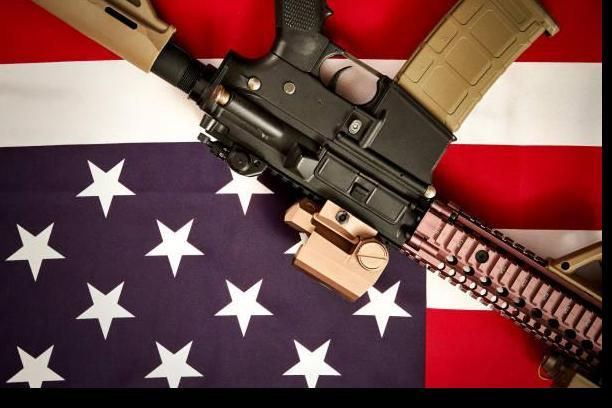larga: (34, 1, 612, 370)
